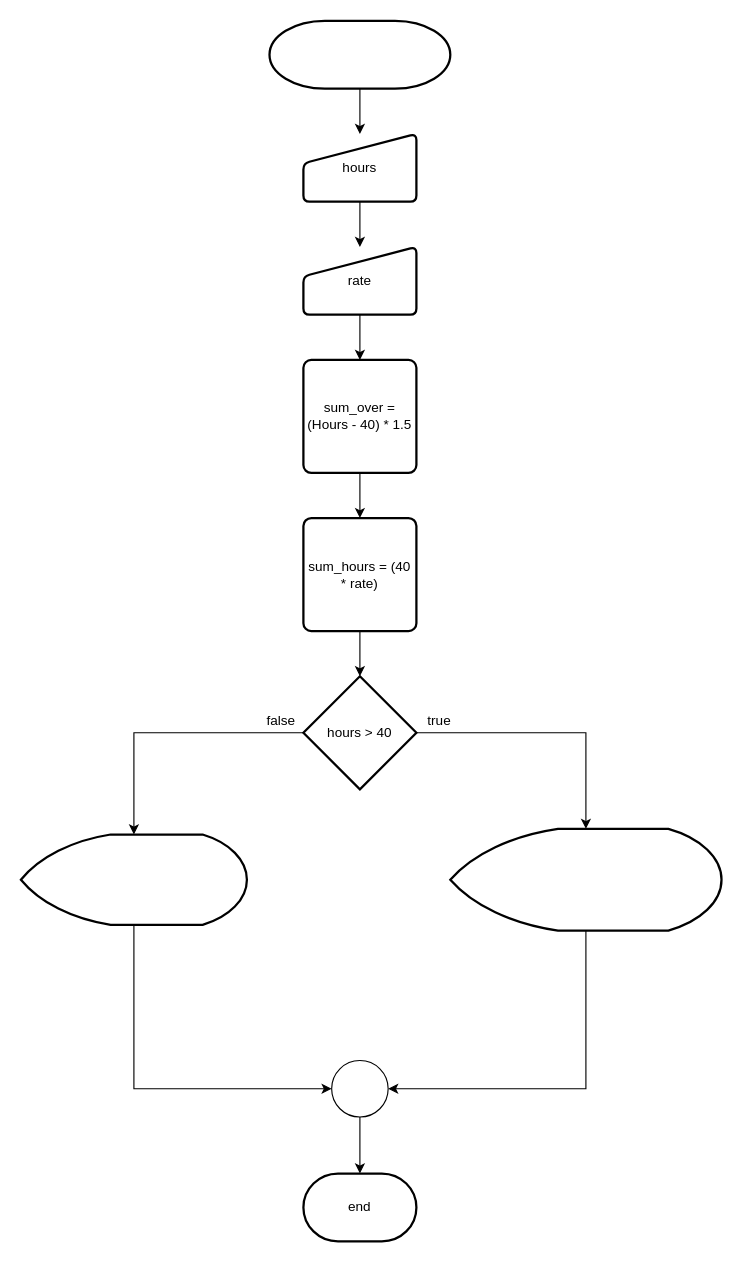
This 741x1261 diagram has some shape labels left out. The box of each missing label's shape, as (x1, y1, x2, y2) in pixels:
print("The gross pay is : ",sum_hours + (sum_over * rate)): (449, 827, 722, 931)
print(The gross pay is : ",hours*rate): (19, 833, 247, 925)
start: (268, 19, 451, 89)
